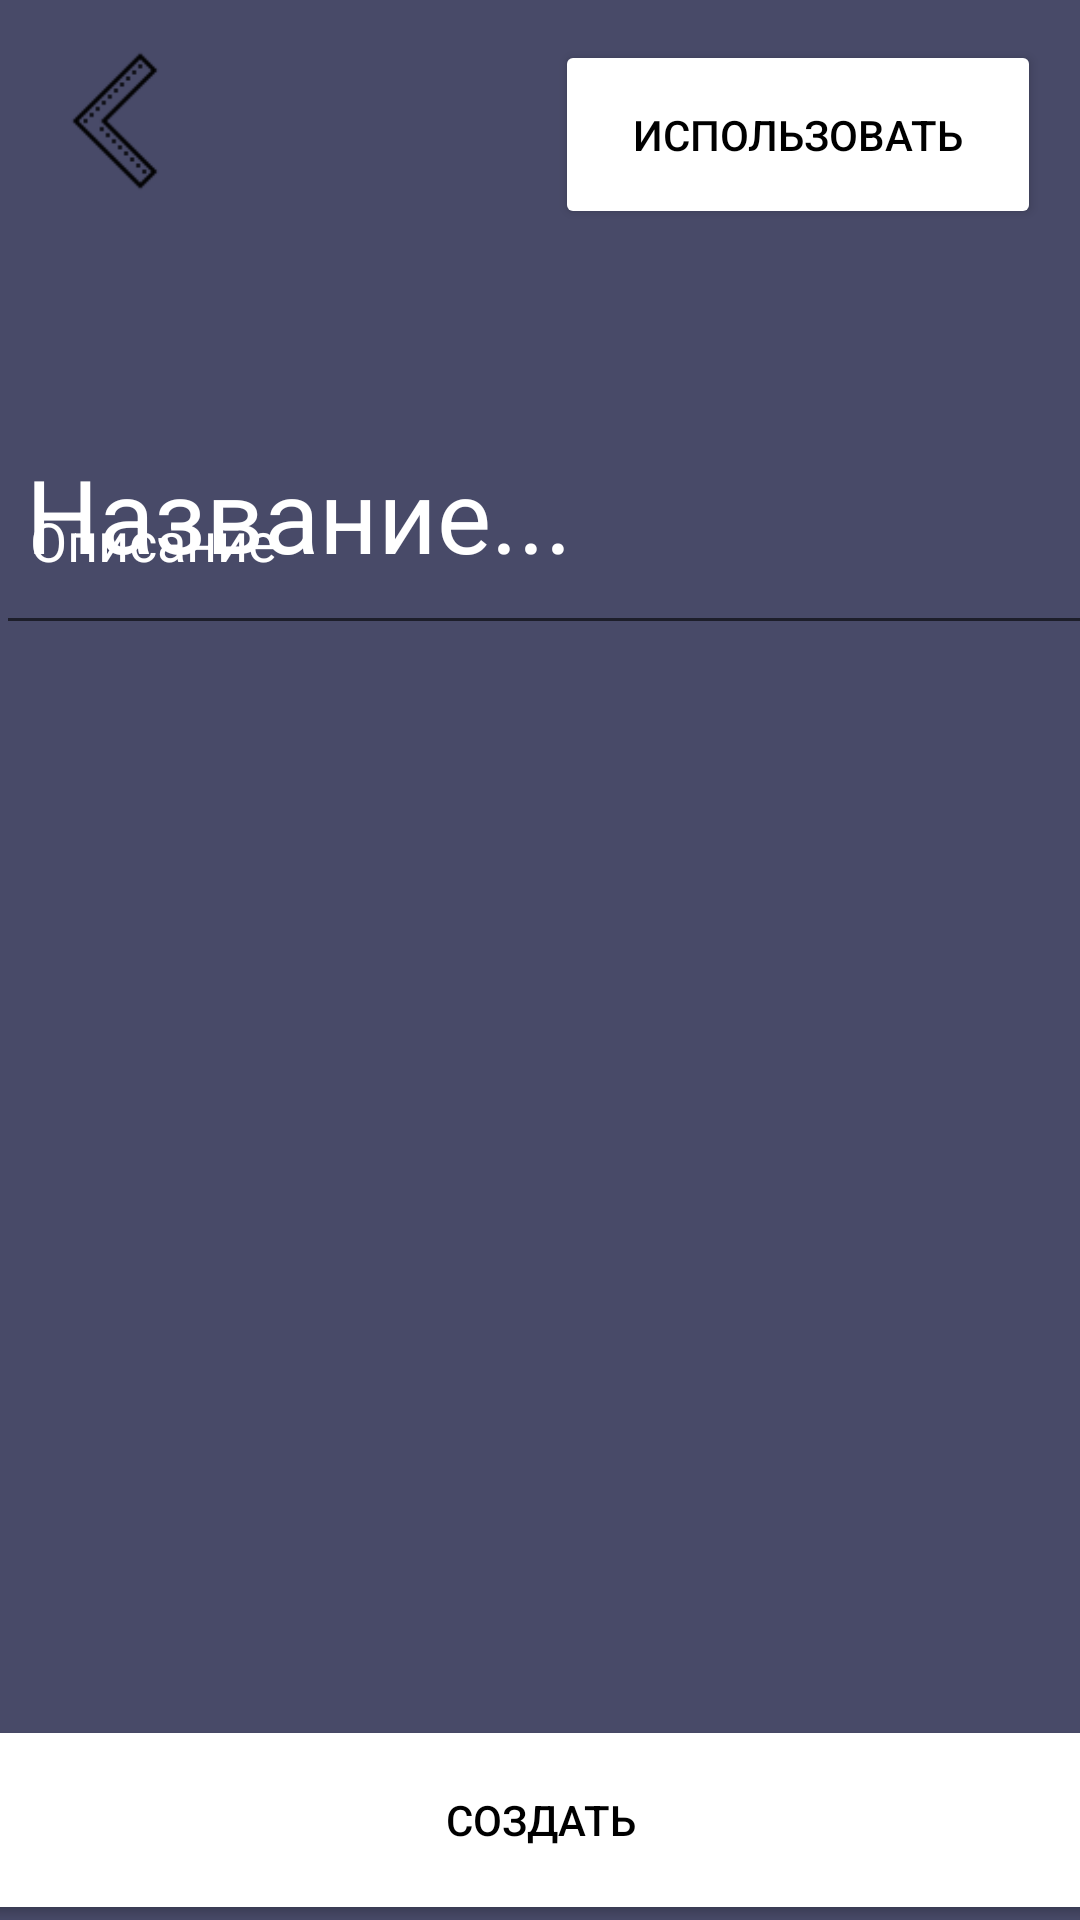

Icon click points for this 1080*1920 phone screenshot, format (x,y):
back arrow: (115,121)
